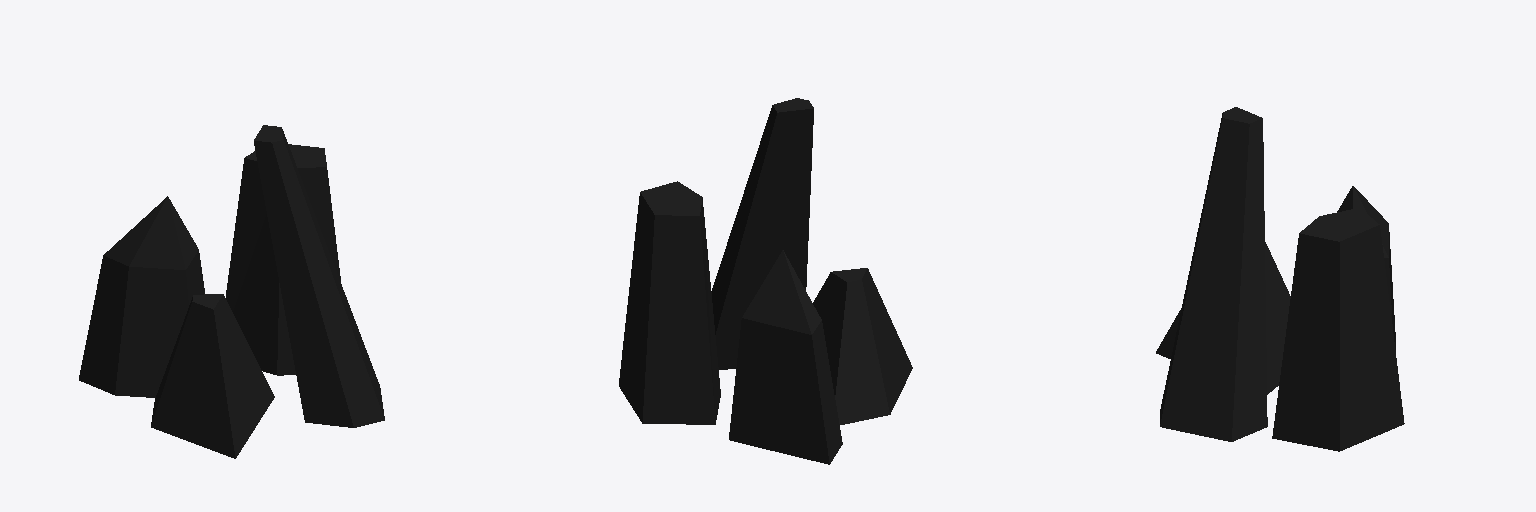
Rendered from big_rocks.obj.
The picture shows the model from 3 angles: view 1: azimuth 30°, elevation 25°; view 2: azimuth 150°, elevation 25°; view 3: azimuth 270°, elevation 25°; orthographic projection.
Size of the model in its own units: 123 by 135 by 111.